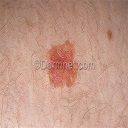Bowen: (47, 44, 78, 86)
